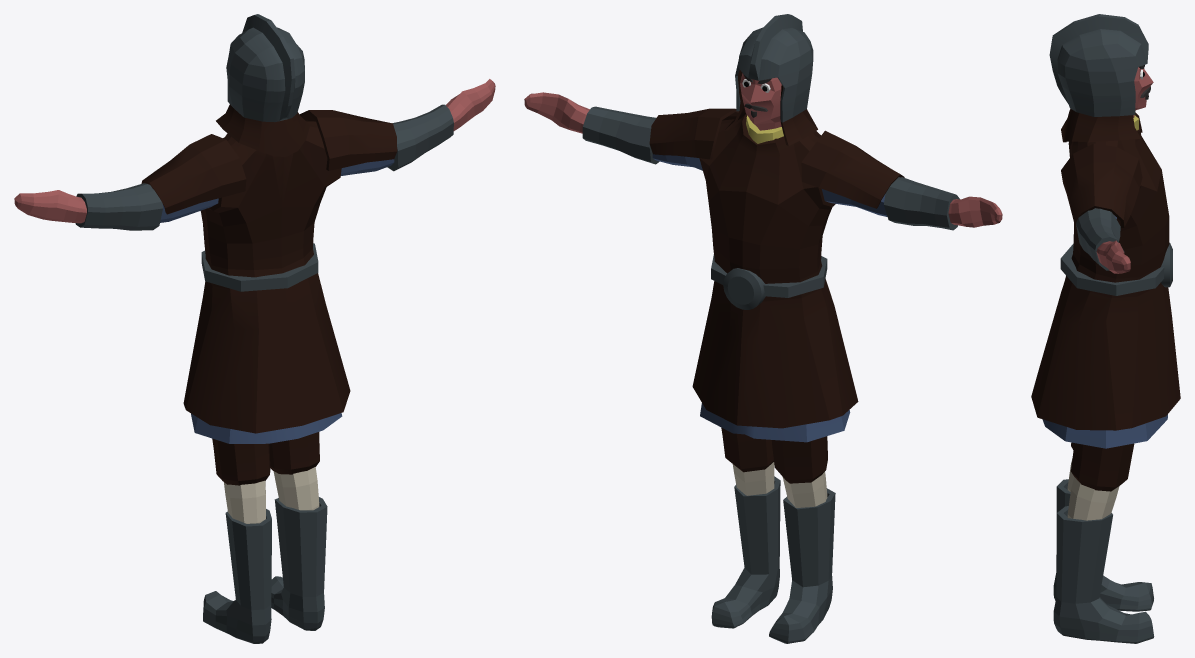
File: shibing_lv3.fbx
3 views of the same model, side by side, from view 1: azimuth 30°, elevation 25°; view 2: azimuth 150°, elevation 25°; view 3: azimuth 270°, elevation 25° (orthographic).
Parts seen in each view (by area): view 1: kuijia1, xiezi0, jianjia0, toukui, hushou, kuzi0, shenti20, tui0, yifu10, toukui1, yaodai0; view 2: kuijia1, xiezi0, jianjia0, hushou, toukui, shenti20, kuzi0, yifu10, tui0, peishi, yaodai0, toukui1; view 3: kuijia1, xiezi0, toukui, jianjia0, kuzi0, toukui1, yifu10, yaodai0, hushou, tui0, shenti20, peishi.
Boxes of the visible parts, left/top/right/bottom form: kuijia1: left=183, top=120, right=350, bottom=433; xiezi0: left=203, top=497, right=327, bottom=643; jianjia0: left=141, top=110, right=397, bottom=214; toukui: left=226, top=14, right=304, bottom=122; hushou: left=75, top=104, right=453, bottom=230; kuzi0: left=212, top=432, right=319, bottom=485; shenti20: left=14, top=79, right=495, bottom=223; tui0: left=224, top=467, right=319, bottom=523; yifu10: left=160, top=159, right=394, bottom=443; toukui1: left=216, top=104, right=309, bottom=156; yaodai0: left=201, top=243, right=318, bottom=291; kuijia1: left=692, top=114, right=858, bottom=428; xiezi0: left=711, top=476, right=835, bottom=643; jianjia0: left=649, top=108, right=904, bottom=208; hushou: left=582, top=106, right=959, bottom=230; toukui: left=735, top=14, right=813, bottom=122; shenti20: left=524, top=73, right=1002, bottom=227; kuzi0: left=721, top=427, right=827, bottom=483; yifu10: left=652, top=154, right=887, bottom=442; tui0: left=732, top=462, right=827, bottom=507; peishi: left=723, top=268, right=765, bottom=309; yaodai0: left=711, top=254, right=827, bottom=297; toukui1: left=724, top=70, right=817, bottom=146; kuijia1: left=1031, top=127, right=1180, bottom=430; xiezi0: left=1053, top=479, right=1154, bottom=643; toukui: left=1049, top=14, right=1148, bottom=116; jianjia0: left=1061, top=112, right=1142, bottom=228; kuzi0: left=1071, top=442, right=1134, bottom=491; toukui1: left=1064, top=108, right=1140, bottom=142; yifu10: left=1042, top=215, right=1167, bottom=448; yaodai0: left=1060, top=243, right=1164, bottom=295; hushou: left=1076, top=208, right=1124, bottom=270; tui0: left=1067, top=458, right=1119, bottom=520; shenti20: left=1096, top=67, right=1153, bottom=273; peishi: left=1161, top=242, right=1172, bottom=287.
Size of the model in its own units: 7.86 by 9.47 by 2.11.
